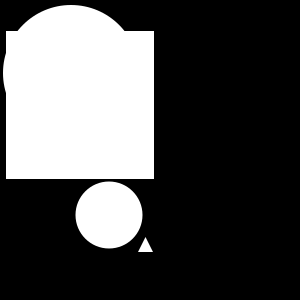circle: (6, 31, 154, 179)
rectangle: (3, 5, 139, 141), (76, 182, 142, 248)
triangle: (138, 237, 153, 252)
